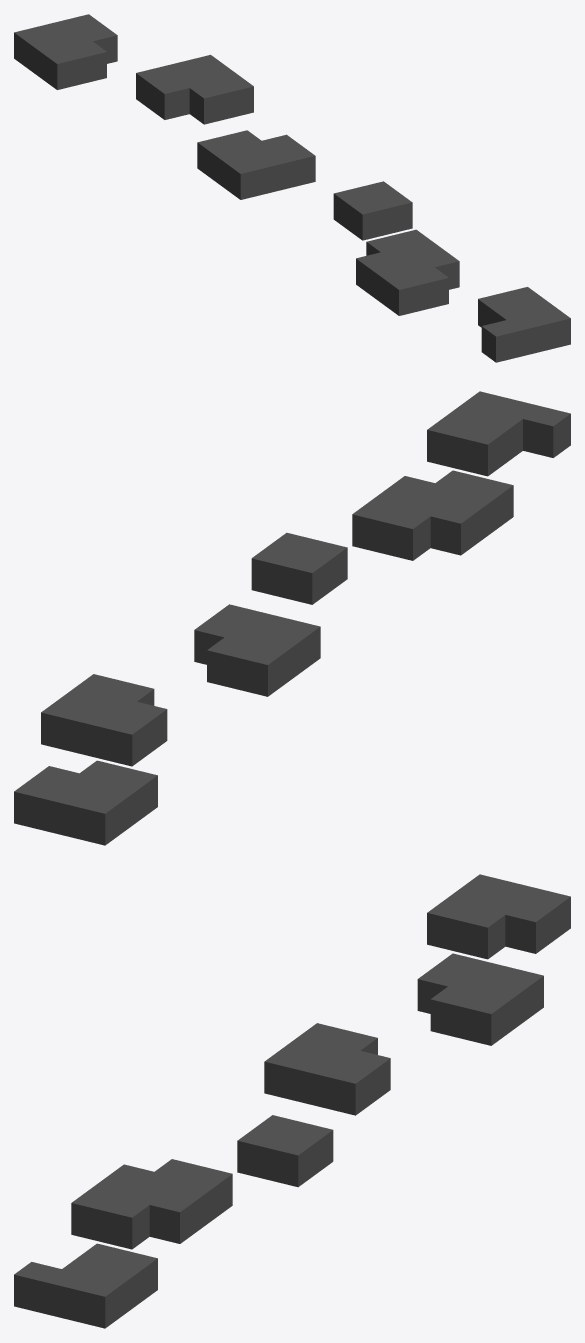
Rendered from obj_path1.fbx.
3 views of the same model, one above another, from view 1: azimuth 30°, elevation 25°; view 2: azimuth 150°, elevation 25°; view 3: azimuth 330°, elevation 25° (orthographic). The views are drawn at different scales.
Parts seen in each view (by area): view 1: obj_path1; view 2: obj_path1; view 3: obj_path1.
Part boxes in pixels (<box>): obj_path1: <box>14,14,570,362</box>; obj_path1: <box>14,391,570,845</box>; obj_path1: <box>14,874,570,1328</box>.
Bounding box in the file's own units: 0.5 × 3 × 0.1.
Materials: 1 (1 with a texture image).
